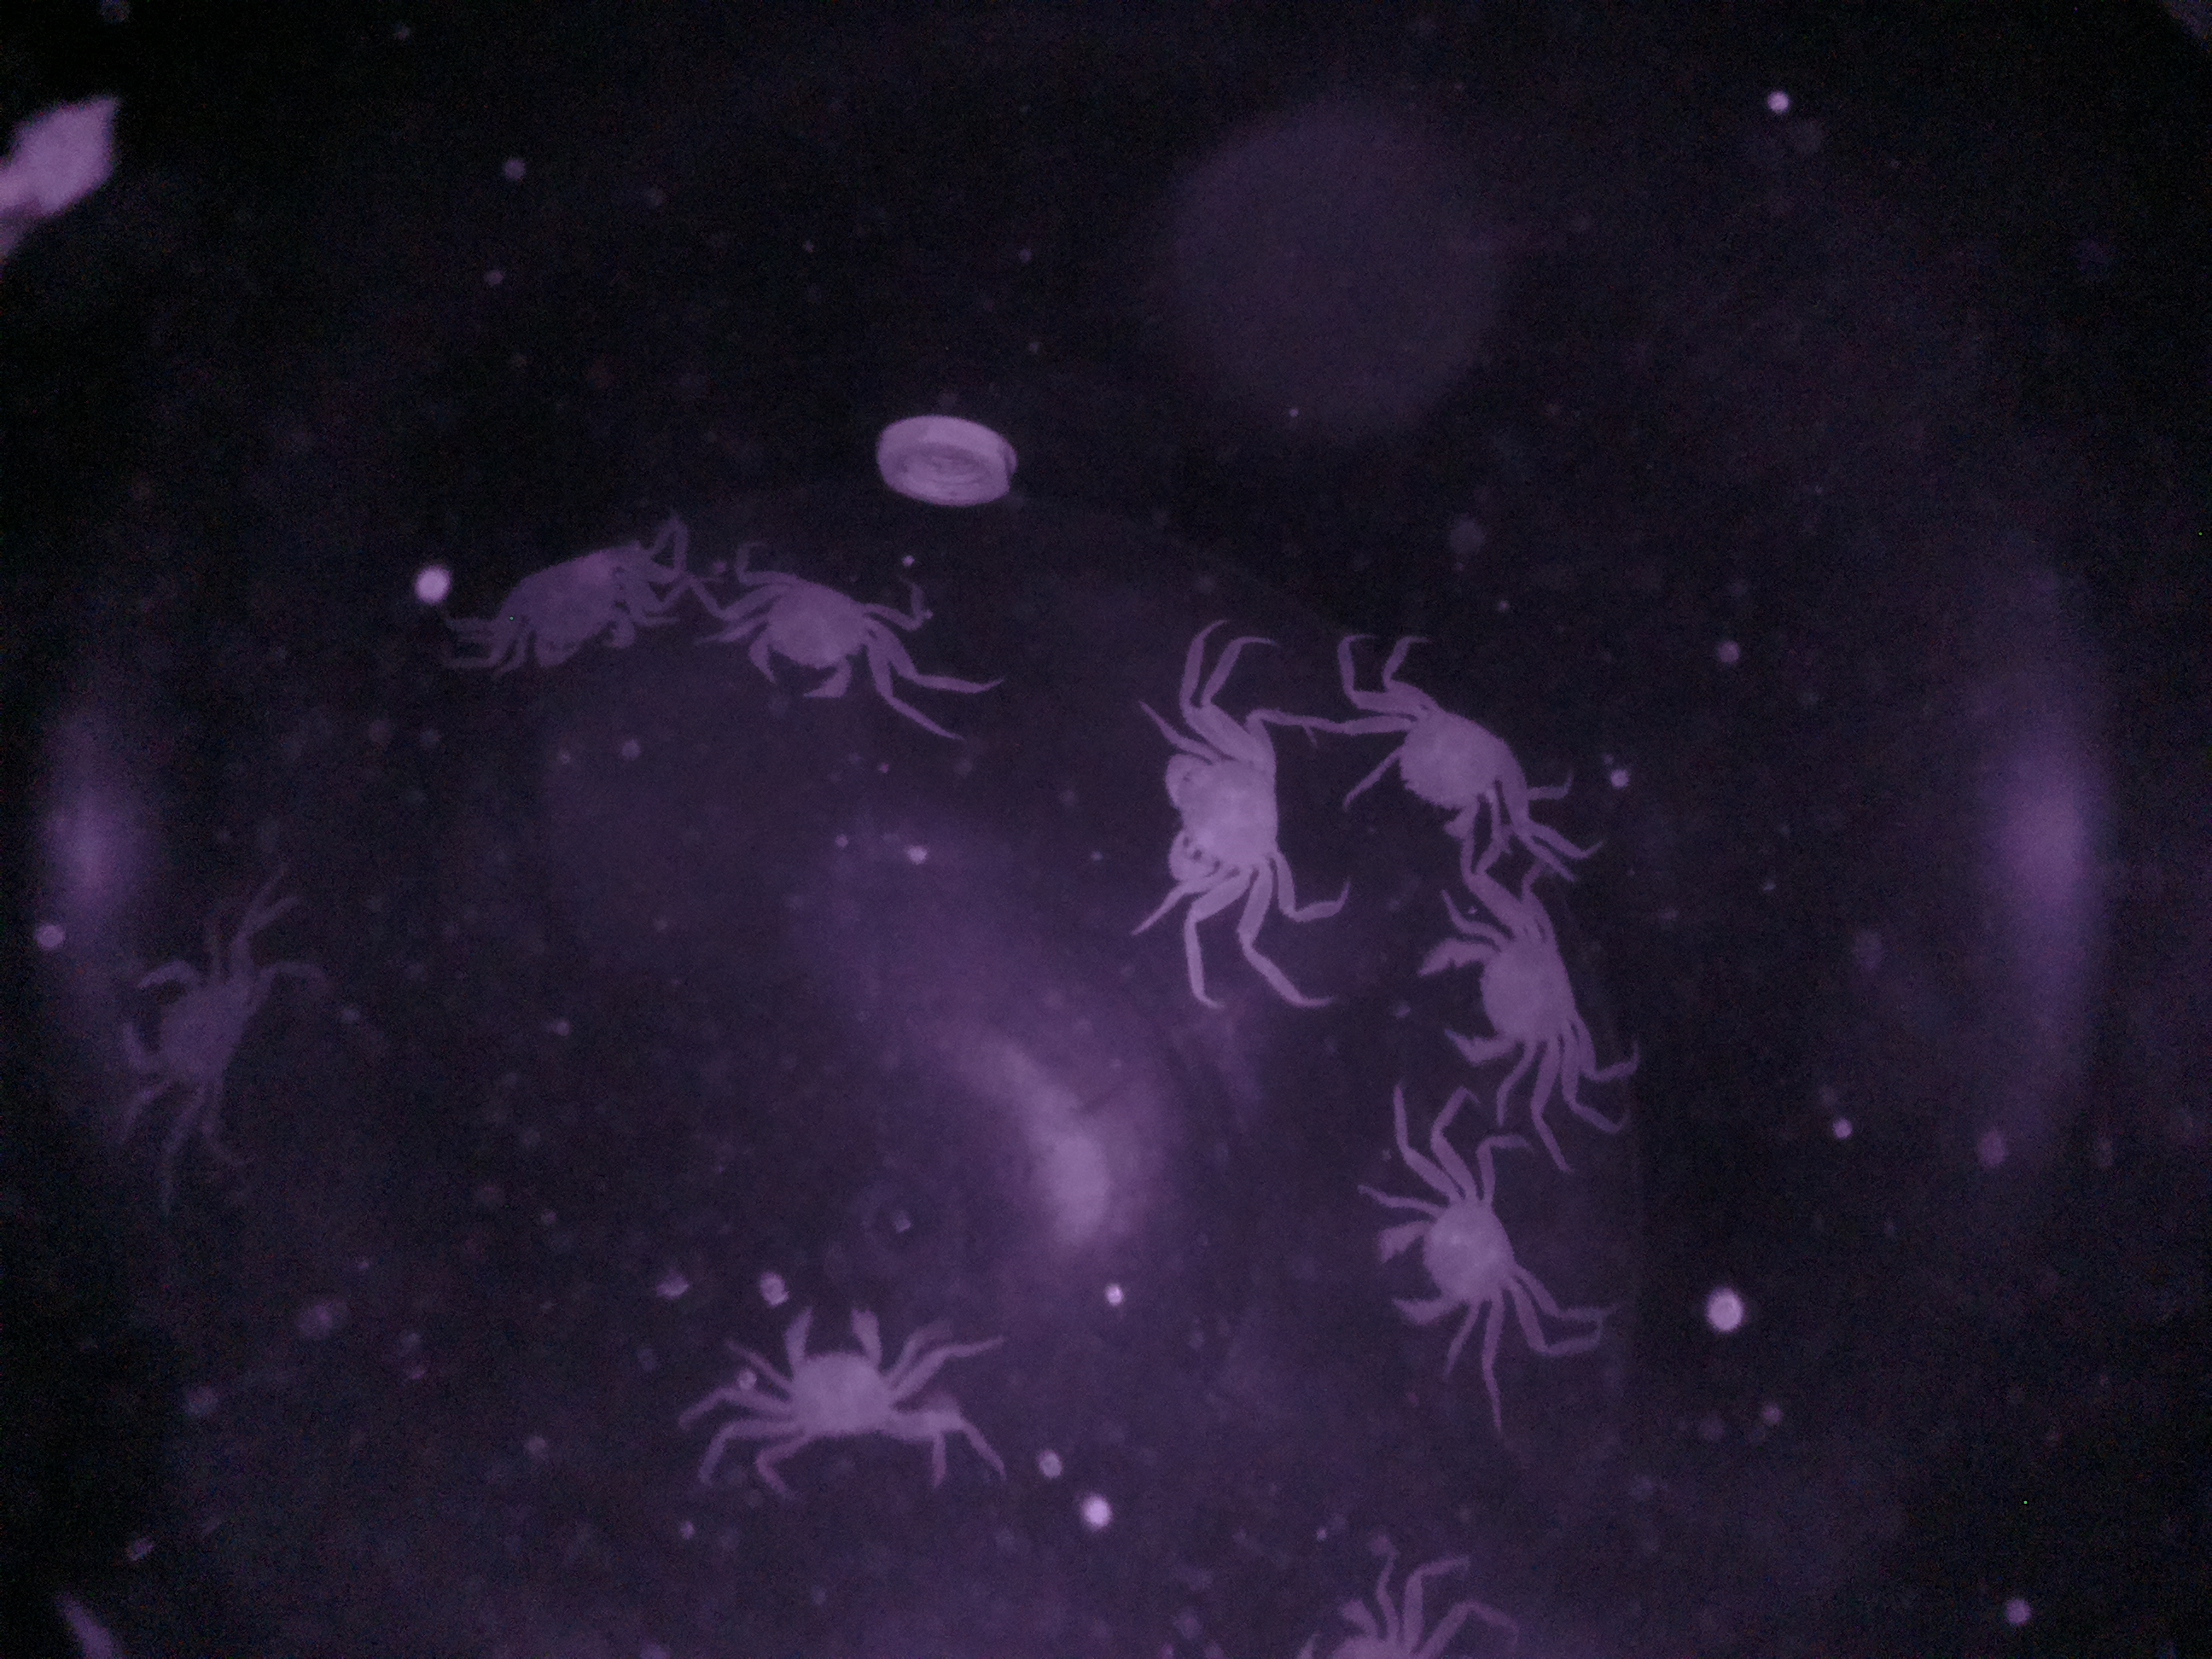Crab: (705, 1286, 982, 1474), (698, 537, 944, 721), (1136, 664, 1296, 946), (1360, 1140, 1554, 1371), (1411, 887, 1625, 1096), (463, 511, 672, 701), (1332, 666, 1538, 850)
